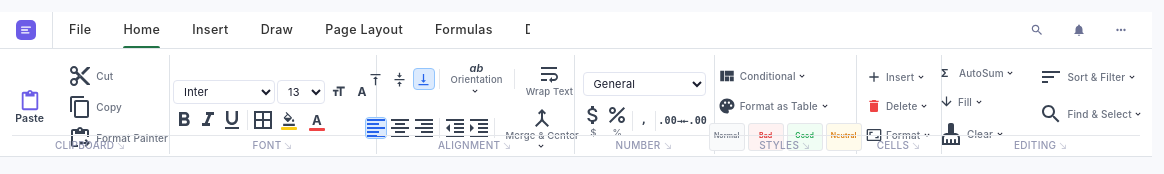
Test: Dropdown Menu Behavior › clicking dropdown button opens menu
Click the button "Σ AutoSum": click(977, 73) top-left (930, 61), bottom-right (1024, 85)
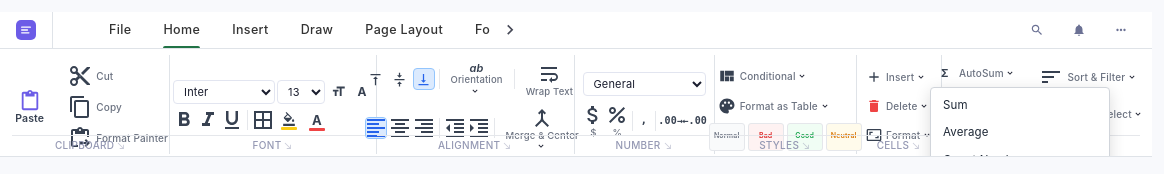
Check: the text "Sum" is shown, box top-left (943, 97), bottom-right (968, 114)
